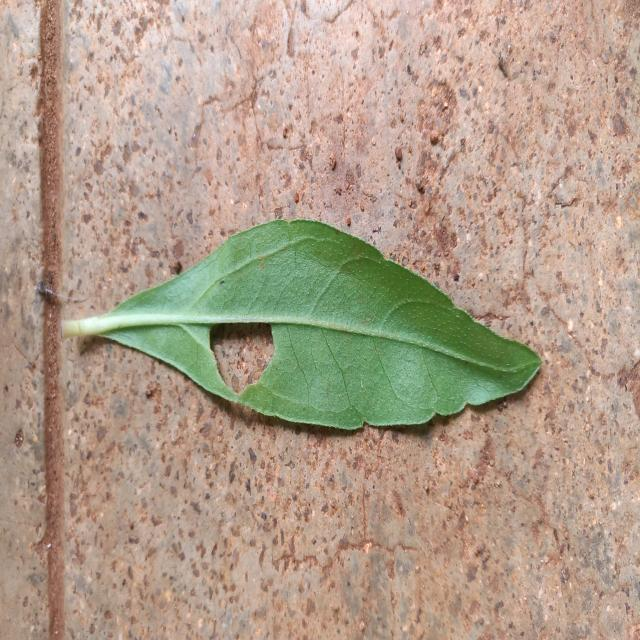defectedbringaraja: (62, 220, 541, 429)
